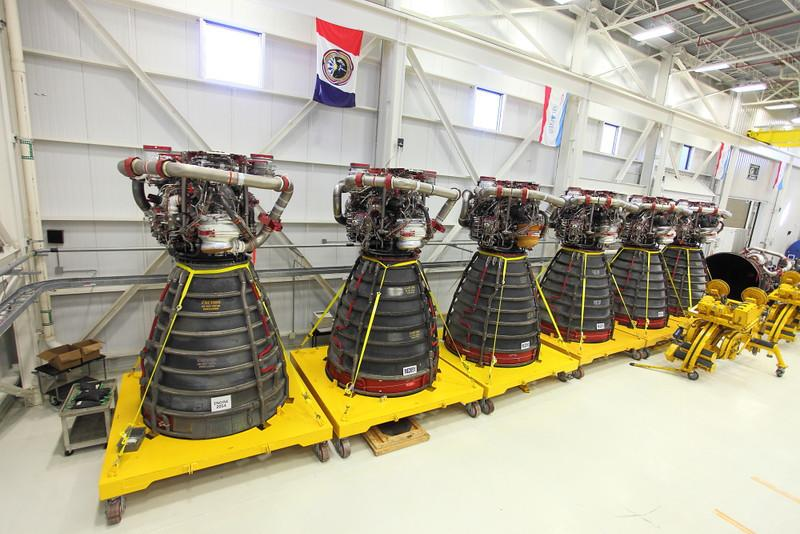thruster: (138, 261, 290, 442), (323, 257, 443, 400), (442, 255, 545, 369), (533, 251, 621, 346), (603, 247, 674, 333), (657, 245, 716, 320)
